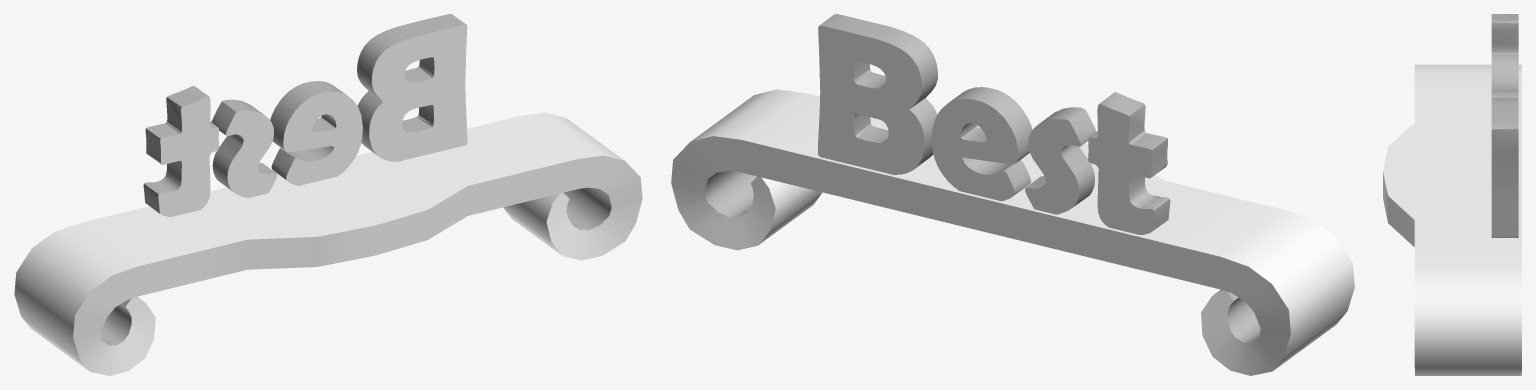
The model's file is menu_top_best.glb.
The picture shows the model from 3 angles, left to right: view 1: azimuth 30°, elevation 25°; view 2: azimuth 150°, elevation 25°; view 3: azimuth 270°, elevation 25°; orthographic projection. The views are drawn at different scales.
Visible parts, largest first — view 1: menu_top.004, Text.014; view 2: menu_top.004, Text.014; view 3: menu_top.004, Text.014.
Boxes of the visible parts, x1=… form: menu_top.004: x1=14, y1=112, x2=642, y2=375; Text.014: x1=143, y1=14, x2=467, y2=216; menu_top.004: x1=671, y1=89, x2=1354, y2=375; Text.014: x1=818, y1=14, x2=1170, y2=234; menu_top.004: x1=1383, y1=64, x2=1521, y2=375; Text.014: x1=1491, y1=14, x2=1518, y2=237.
Size of the model in its own units: 1.89 by 0.7174 by 0.4374.
Materials: 2 (2 with a texture image).
